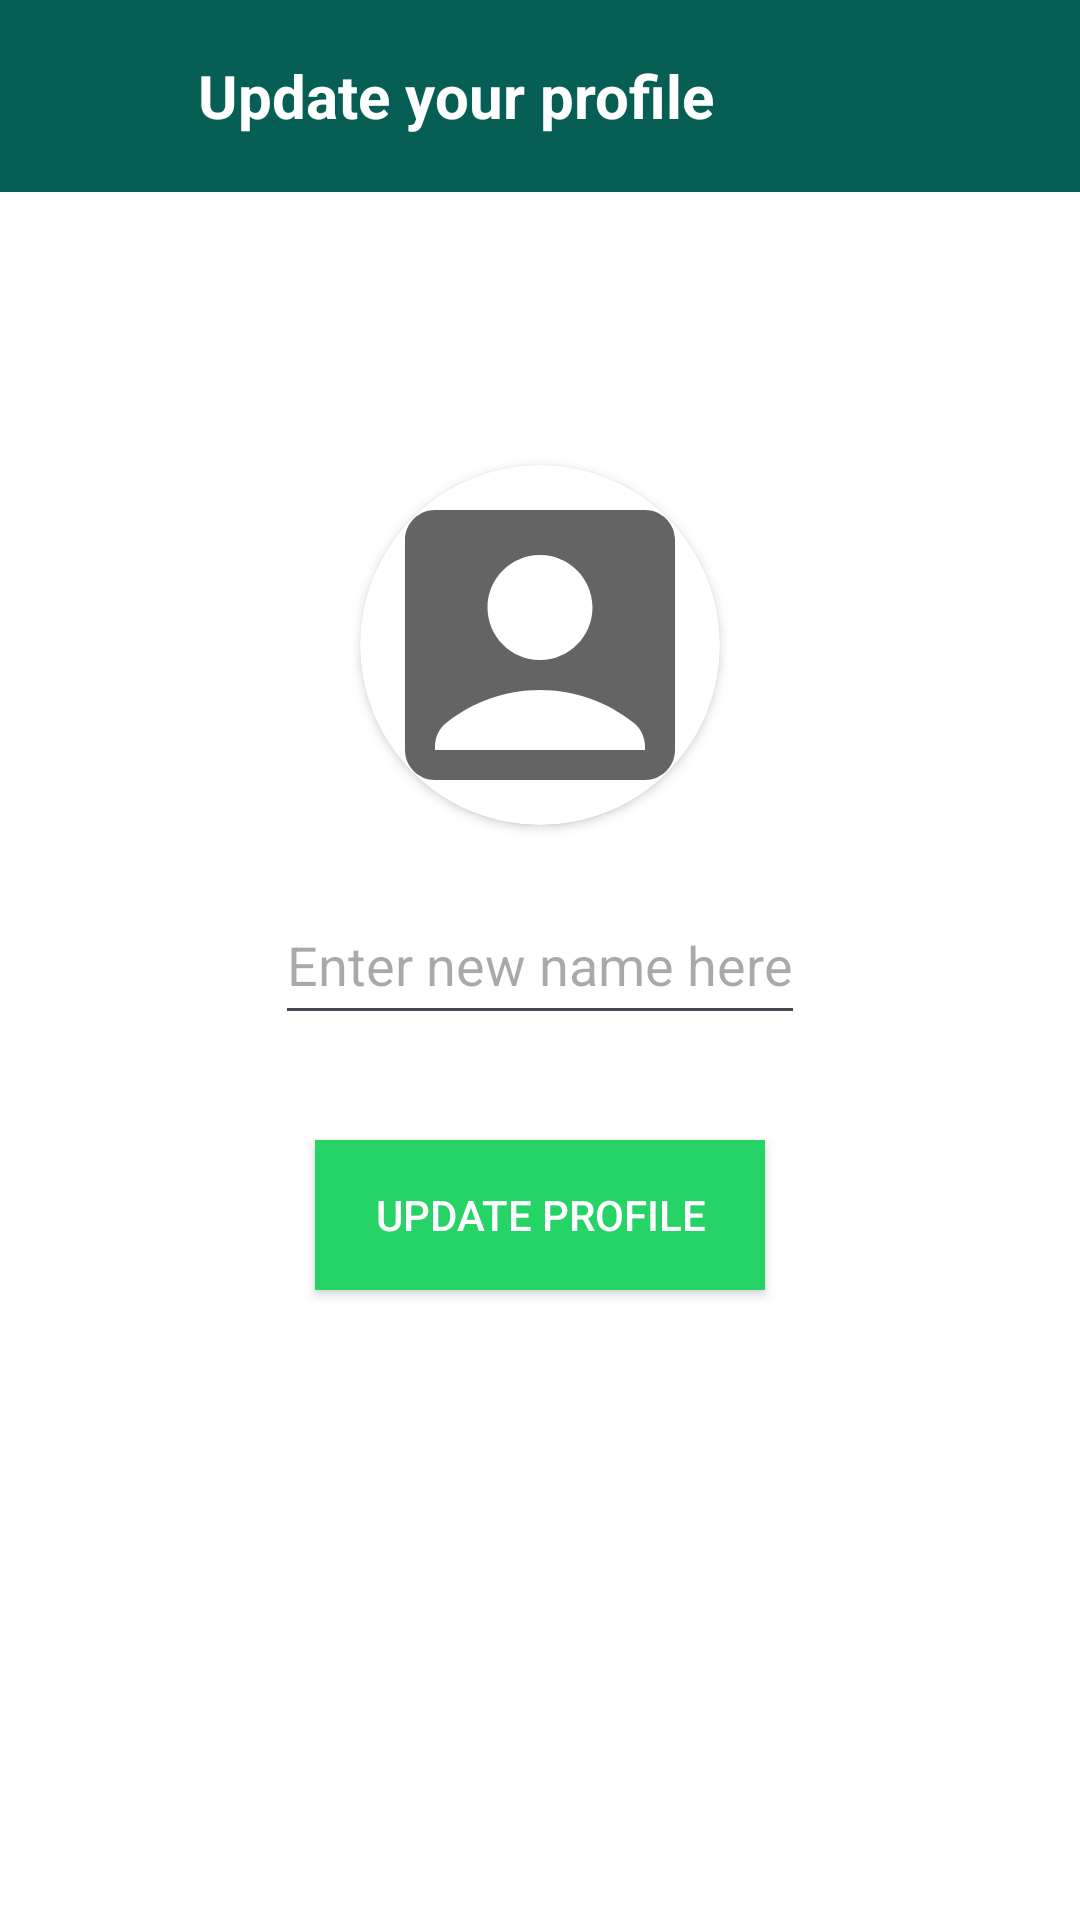

Named icons in this screenshot (1080*1920) and their bounding boxes, [left=x1, top=y1, right=x2, bottom=y2]:
account box: [left=360, top=510, right=720, bottom=825]
